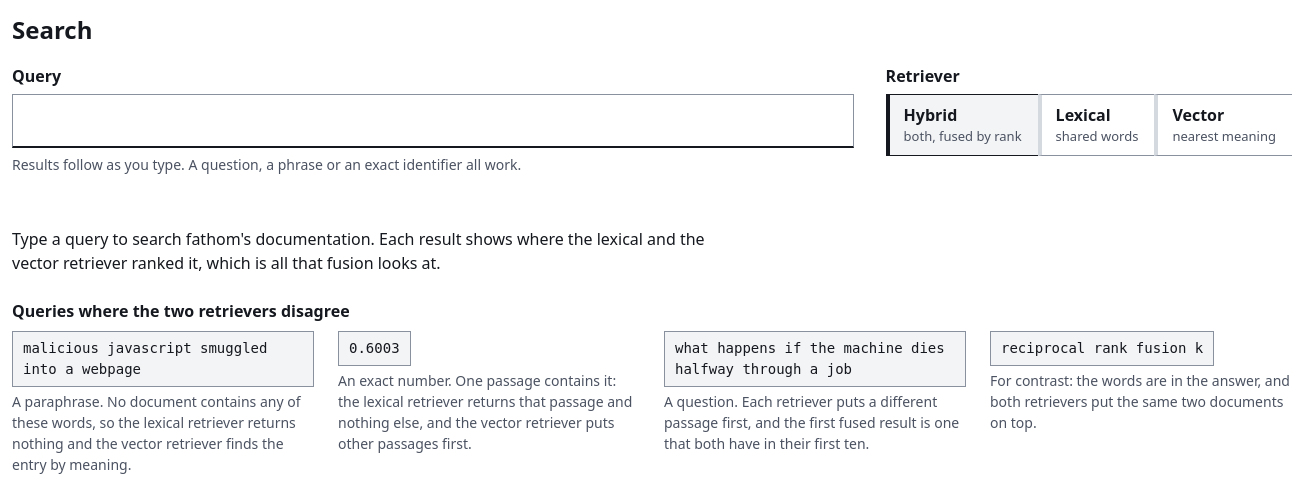
the search view › searches once after the typing stops, puts the query in the address and shows each hit with its ranks
Step 1. Type "rank fusion" into the search field labelled "Query" → (433, 121), box [12,94,854,148]
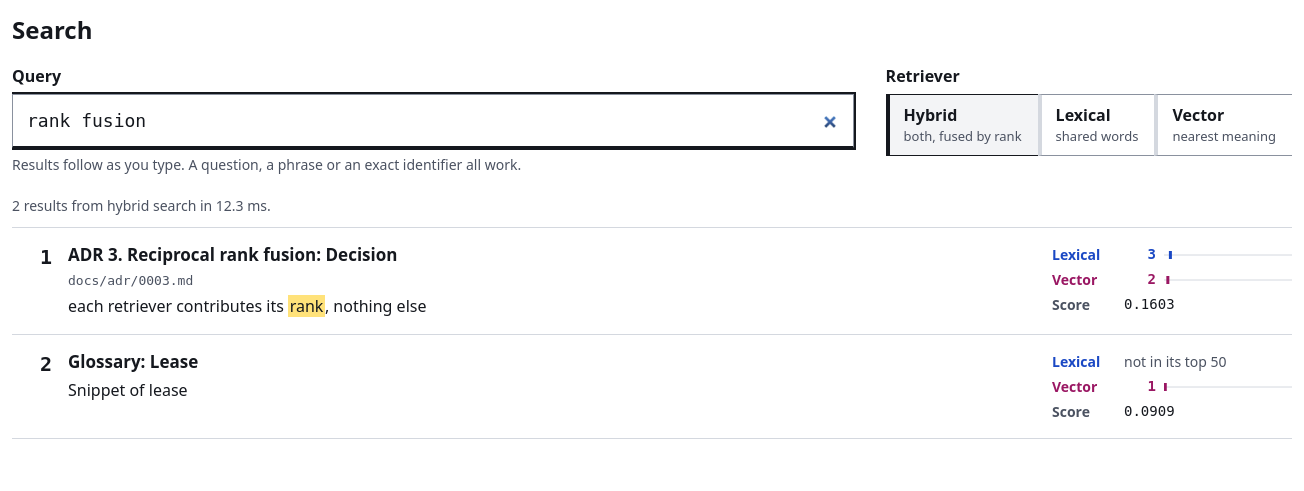
Now the message reads "2 results from hybrid search in 12.3 ms.", box [12,196,271,215]
Now the number of list items is 2, box [12,227,1292,334]; [12,334,1292,438]
Now the heading "ADR 3. Reciprocal rank fusion: Decision" is shown, box [68,243,397,266]
